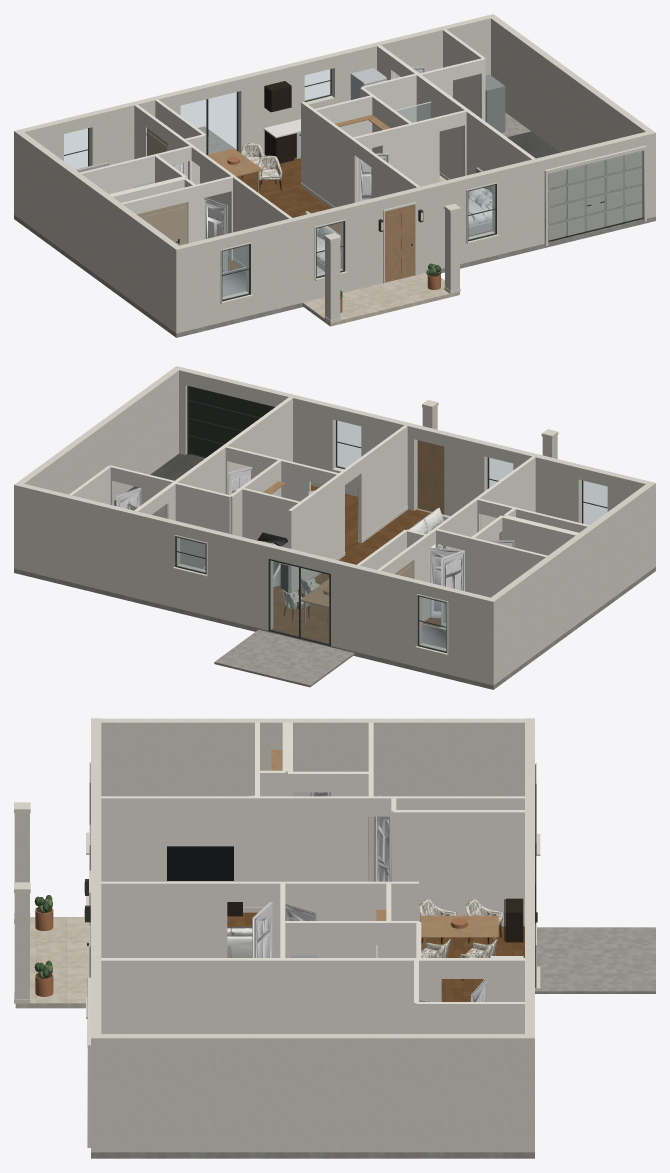
The model's file is bell-plan-v4.glb.
The picture shows the model from 3 angles, top to bottom: view 1: azimuth 30°, elevation 25°; view 2: azimuth 150°, elevation 25°; view 3: azimuth 270°, elevation 25°; orthographic projection. The views are drawn at different scales.
Visible parts, largest first — view 1: Bell current furnished floorplan; view 2: Bell current furnished floorplan; view 3: Bell current furnished floorplan.
Boxes of the visible parts, x1,y1,x2,y2 form: Bell current furnished floorplan: (14, 14, 655, 337); Bell current furnished floorplan: (14, 366, 655, 689); Bell current furnished floorplan: (14, 718, 655, 1158).
Size of the model in its own units: 15.24 by 2.67 by 12.93.
Materials: 83 (37 with a texture image).
